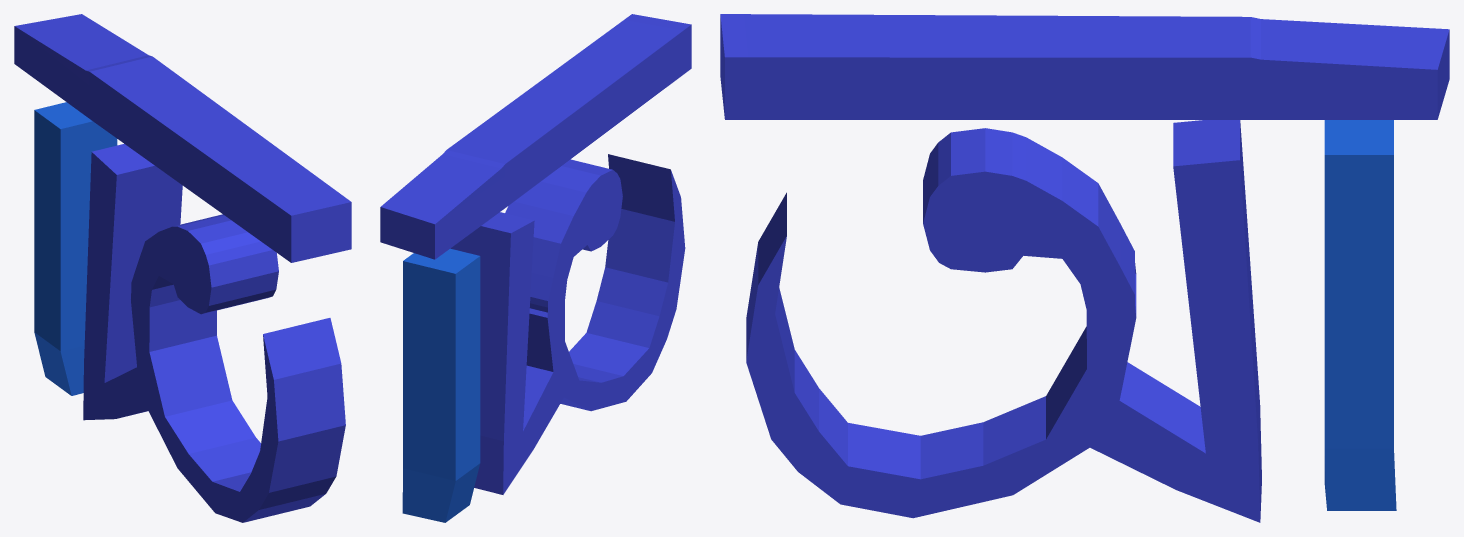
3 views of the same model, side by side, from view 1: azimuth 30°, elevation 25°; view 2: azimuth 150°, elevation 25°; view 3: azimuth 270°, elevation 25° (orthographic). The views are drawn at different scales.
Parts seen in each view (by area): view 1: Cube, Cube.002; view 2: Cube, Cube.002; view 3: Cube, Cube.002.
Boxes of the visible parts, x1=… form: Cube: x1=14, y1=14, x2=351, y2=522; Cube.002: x1=34, y1=102, x2=117, y2=395; Cube: x1=380, y1=14, x2=691, y2=494; Cube.002: x1=402, y1=248, x2=480, y2=522; Cube: x1=720, y1=14, x2=1449, y2=522; Cube.002: x1=1324, y1=120, x2=1396, y2=510.
Size of the model in its own units: 136 by 683 by 965.
